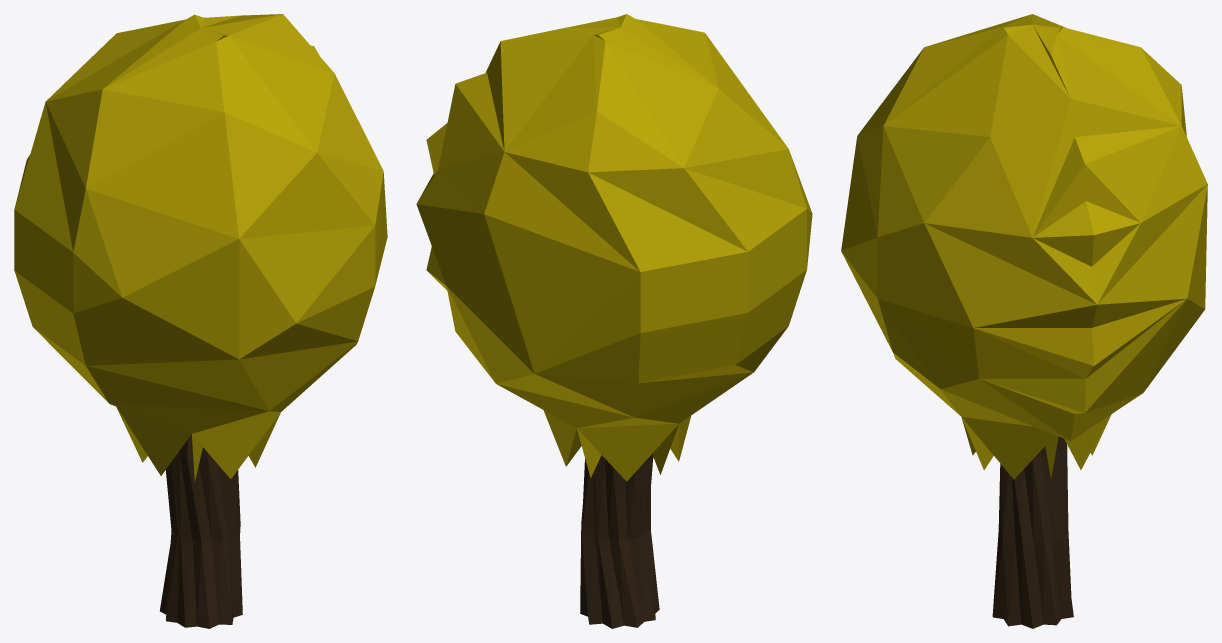
Rendered from NormalTree_Yellow.fbx.
3 renders of one model, left to right at view 1: azimuth 30°, elevation 25°; view 2: azimuth 150°, elevation 25°; view 3: azimuth 270°, elevation 25°, orthographic.
Parts seen in each view (by area): view 1: Trees:pSphere1, Trees:pCylinder1; view 2: Trees:pSphere1, Trees:pCylinder1; view 3: Trees:pSphere1, Trees:pCylinder1.
Part boxes in pixels (<box>): Trees:pSphere1: <box>14,14,387,481</box>; Trees:pCylinder1: <box>160,434,242,628</box>; Trees:pSphere1: <box>416,14,812,481</box>; Trees:pCylinder1: <box>580,454,659,628</box>; Trees:pSphere1: <box>841,14,1207,479</box>; Trees:pCylinder1: <box>992,437,1073,628</box>.
Size of the model in its own units: 0.171 by 0.291 by 0.1645.
